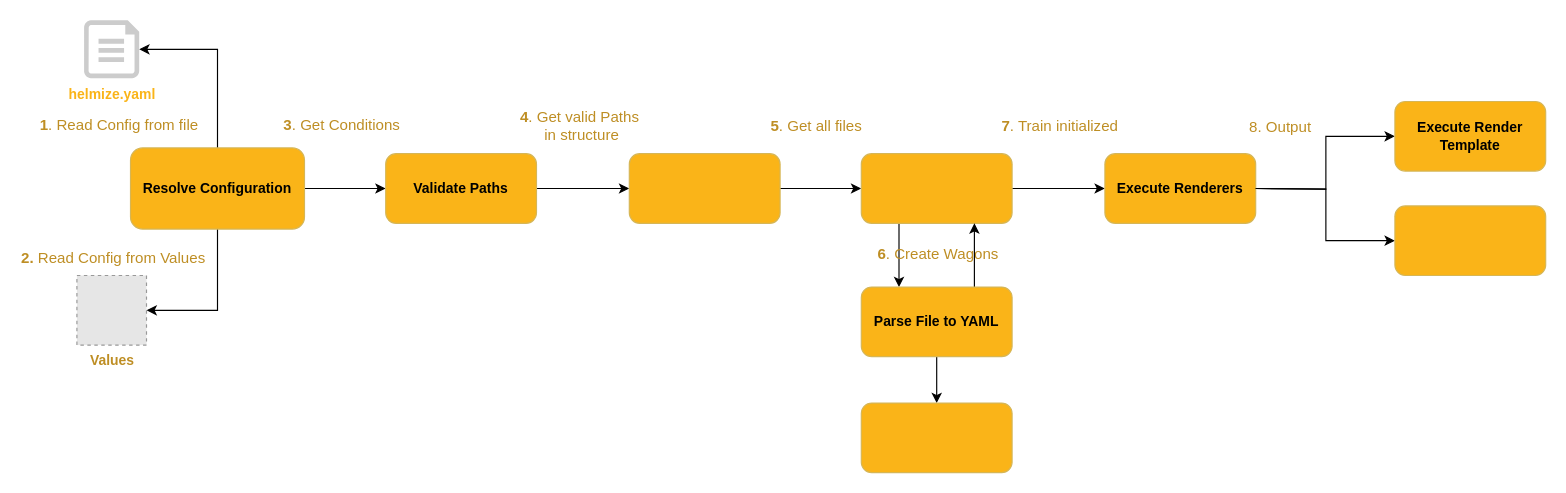
Image size: 1566x493. Some labels were removed from this diagram. Grey dashed boxes stand in for pictures. The shapes that lost their labels are listed below. From the top down, each one's box as (x1, y1, x2, y2) in pixels, then its label:
(628, 153, 780, 223): Find Files
(860, 153, 1012, 223): File Train
(1394, 205, 1546, 276): Summary
(860, 402, 1012, 473): Execute Identifier Template
